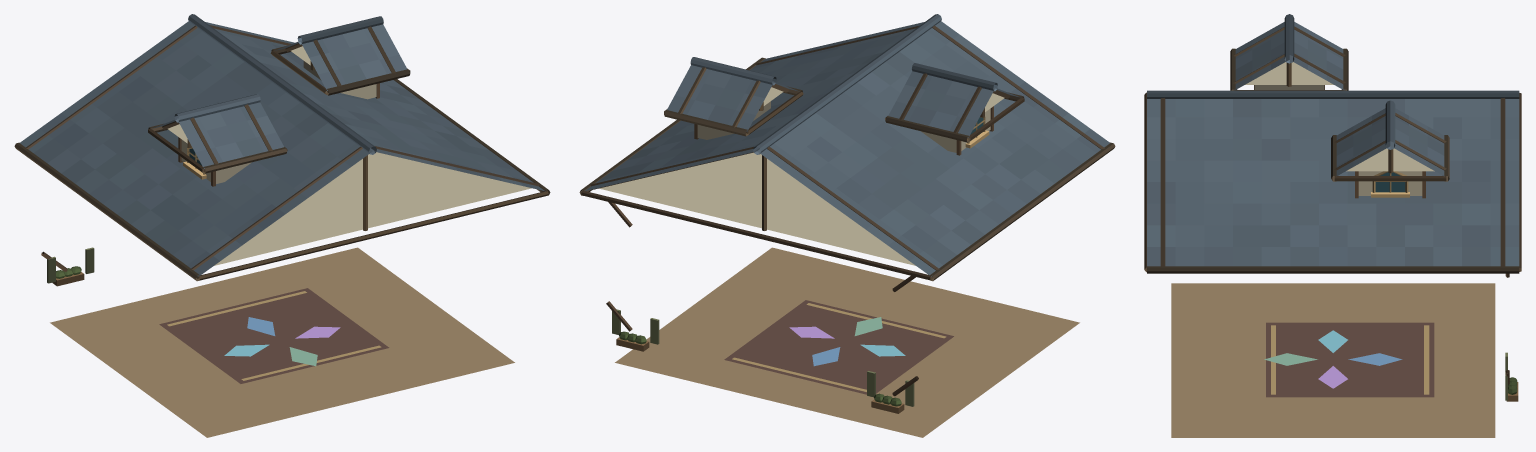
3 renders of one model, left to right at view 1: azimuth 30°, elevation 25°; view 2: azimuth 150°, elevation 25°; view 3: azimuth 270°, elevation 25°, orthographic. The views are drawn at different scales.
Visible parts, largest first — view 1: f83b9e325f7eb846d9dc44120af0f2f403f5af8cbe4ef3c854eff5955270; view 2: f83b9e325f7eb846d9dc44120af0f2f403f5af8cbe4ef3c854eff5955270; view 3: f83b9e325f7eb846d9dc44120af0f2f403f5af8cbe4ef3c854eff5955270.
Part boxes in pixels (box(x1,y1,x2,y2)): f83b9e325f7eb846d9dc44120af0f2f403f5af8cbe4ef3c854eff5955270: box(14, 14, 550, 437); f83b9e325f7eb846d9dc44120af0f2f403f5af8cbe4ef3c854eff5955270: box(579, 14, 1115, 437); f83b9e325f7eb846d9dc44120af0f2f403f5af8cbe4ef3c854eff5955270: box(1144, 14, 1521, 437).
Size of the model in its own units: 10.02 by 7.42 by 8.97.
Materials: 6 (1 with a texture image).
